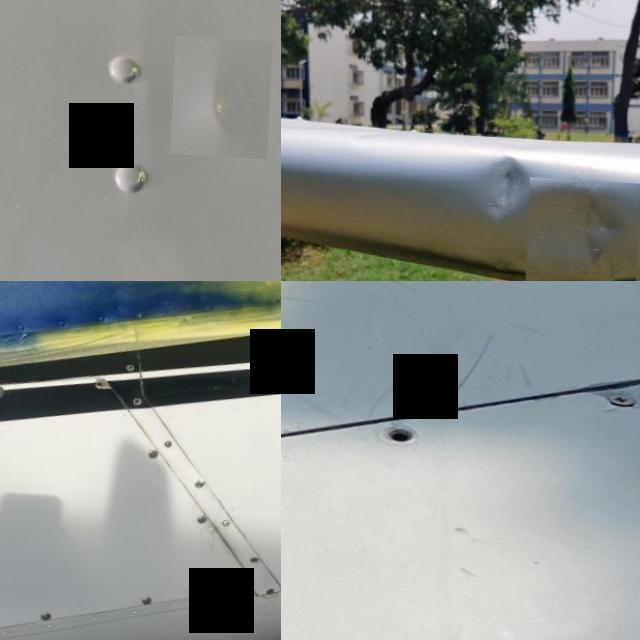Dent: (174, 32, 275, 155), (528, 172, 640, 281), (462, 136, 552, 233)
Missing_Fastener: (382, 416, 426, 444), (98, 376, 109, 385), (135, 392, 146, 401), (128, 359, 138, 366), (198, 476, 209, 482), (254, 550, 264, 556), (210, 301, 217, 305), (276, 292, 281, 297)
